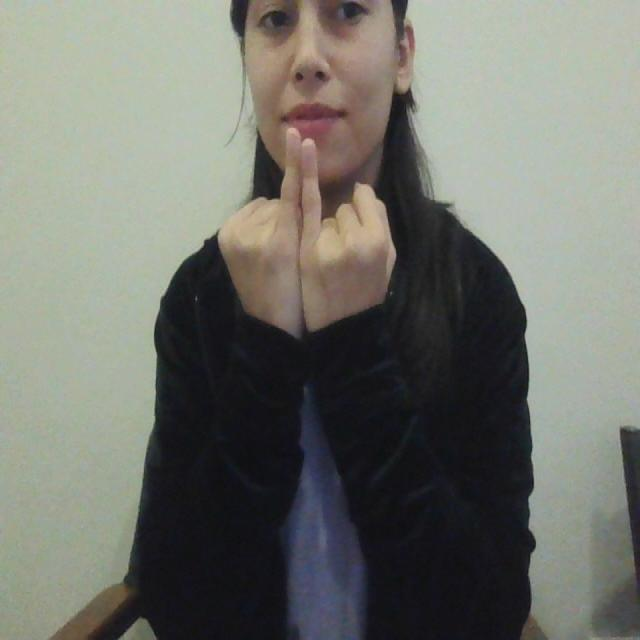Kardes: (215, 122, 403, 347)
